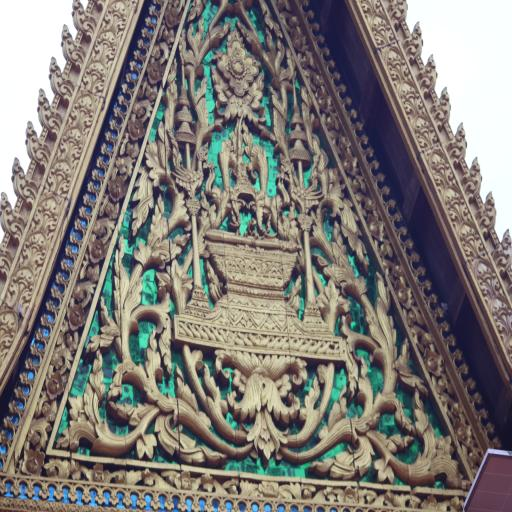hoa: (216, 36, 259, 100), (84, 459, 110, 484), (424, 343, 442, 376), (394, 276, 412, 308), (24, 449, 43, 478), (364, 210, 384, 237), (340, 145, 358, 174), (453, 416, 471, 445), (46, 370, 63, 398), (339, 483, 359, 506), (290, 27, 308, 52), (316, 87, 333, 113), (88, 238, 106, 262), (67, 304, 84, 328), (109, 176, 124, 200), (177, 471, 195, 491), (424, 492, 442, 512), (261, 480, 278, 500), (129, 119, 145, 140), (150, 59, 162, 84), (168, 8, 176, 29)
la: (304, 150, 408, 366), (307, 367, 460, 498), (97, 135, 181, 350), (78, 350, 222, 468), (220, 345, 306, 470), (196, 472, 261, 500), (114, 463, 175, 490), (25, 398, 58, 446), (362, 0, 394, 49), (359, 486, 422, 510), (470, 256, 503, 301), (279, 481, 339, 504), (8, 267, 40, 309), (50, 325, 79, 371), (402, 306, 433, 348), (72, 263, 104, 302), (19, 228, 51, 267), (423, 146, 454, 185), (92, 198, 122, 238), (442, 184, 472, 224), (396, 80, 427, 118), (376, 234, 402, 278), (44, 453, 82, 482), (434, 373, 459, 416), (0, 307, 22, 354), (33, 196, 62, 231), (113, 135, 139, 173), (410, 115, 439, 149), (94, 27, 122, 62), (58, 127, 86, 161), (132, 82, 158, 118), (458, 226, 487, 258), (324, 111, 346, 153), (70, 94, 97, 128), (299, 49, 322, 88), (384, 50, 412, 82), (48, 163, 76, 193), (350, 172, 370, 214), (490, 298, 512, 336), (84, 62, 109, 94), (153, 26, 175, 60), (104, 1, 128, 30), (276, 0, 297, 27), (465, 442, 483, 472)
lua: (36, 86, 62, 138), (11, 154, 35, 205), (24, 119, 50, 164), (0, 189, 22, 240), (460, 155, 484, 200), (50, 56, 72, 102), (60, 25, 82, 70), (478, 189, 500, 233), (433, 85, 455, 128), (72, 1, 96, 39), (448, 122, 469, 161), (406, 20, 425, 60), (422, 53, 438, 92), (497, 230, 511, 272), (391, 0, 409, 23)
